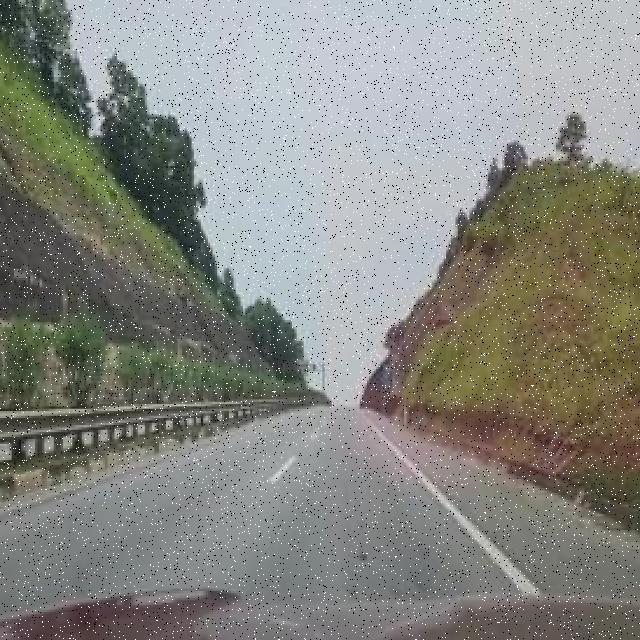clear-road: (0, 408, 518, 618), (371, 415, 640, 595)
